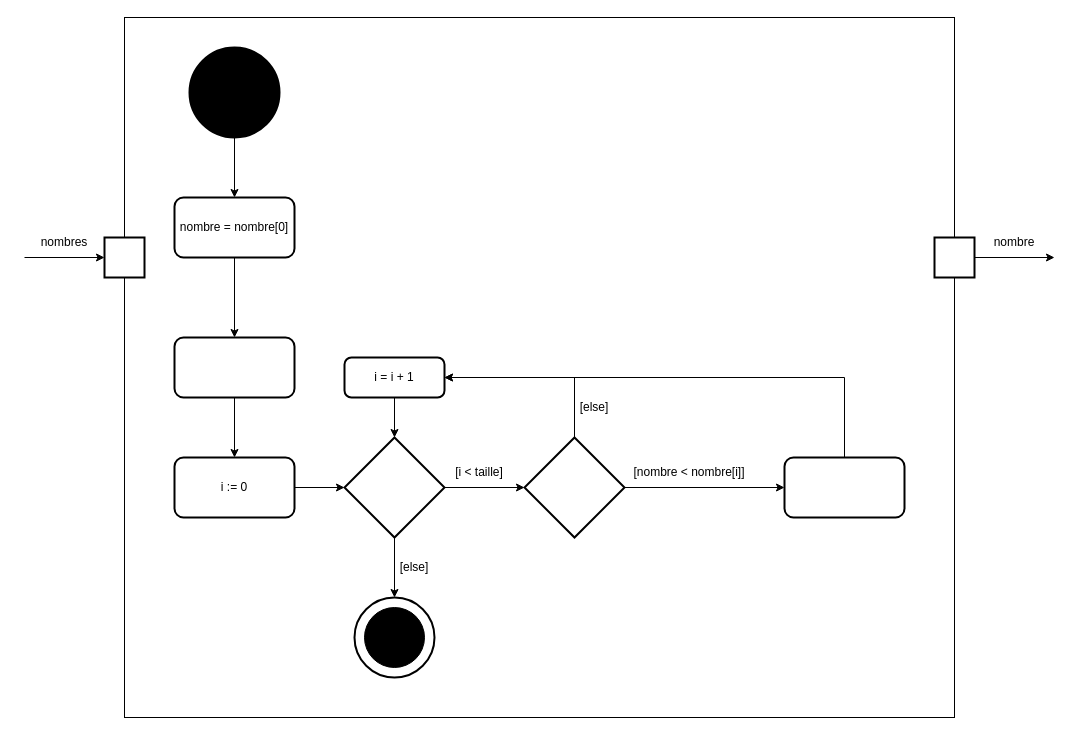
Image size: 1080x735. Some labels were removed from this diagram. Each missing label, with the centre of its shape:
nombre = nombre[i]: point 844,487
taille = longueur de points: point 234,367
